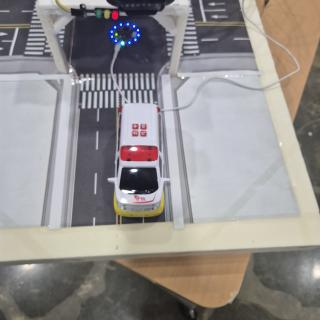Ambulance: (108, 103, 170, 217)
